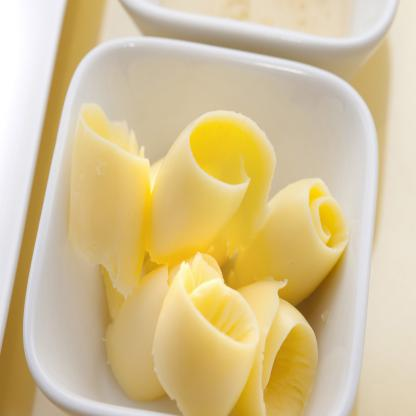butter: (76, 101, 330, 408)
